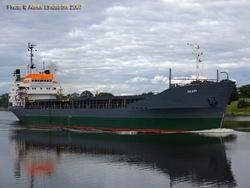Cargoship: (5, 33, 236, 129)
